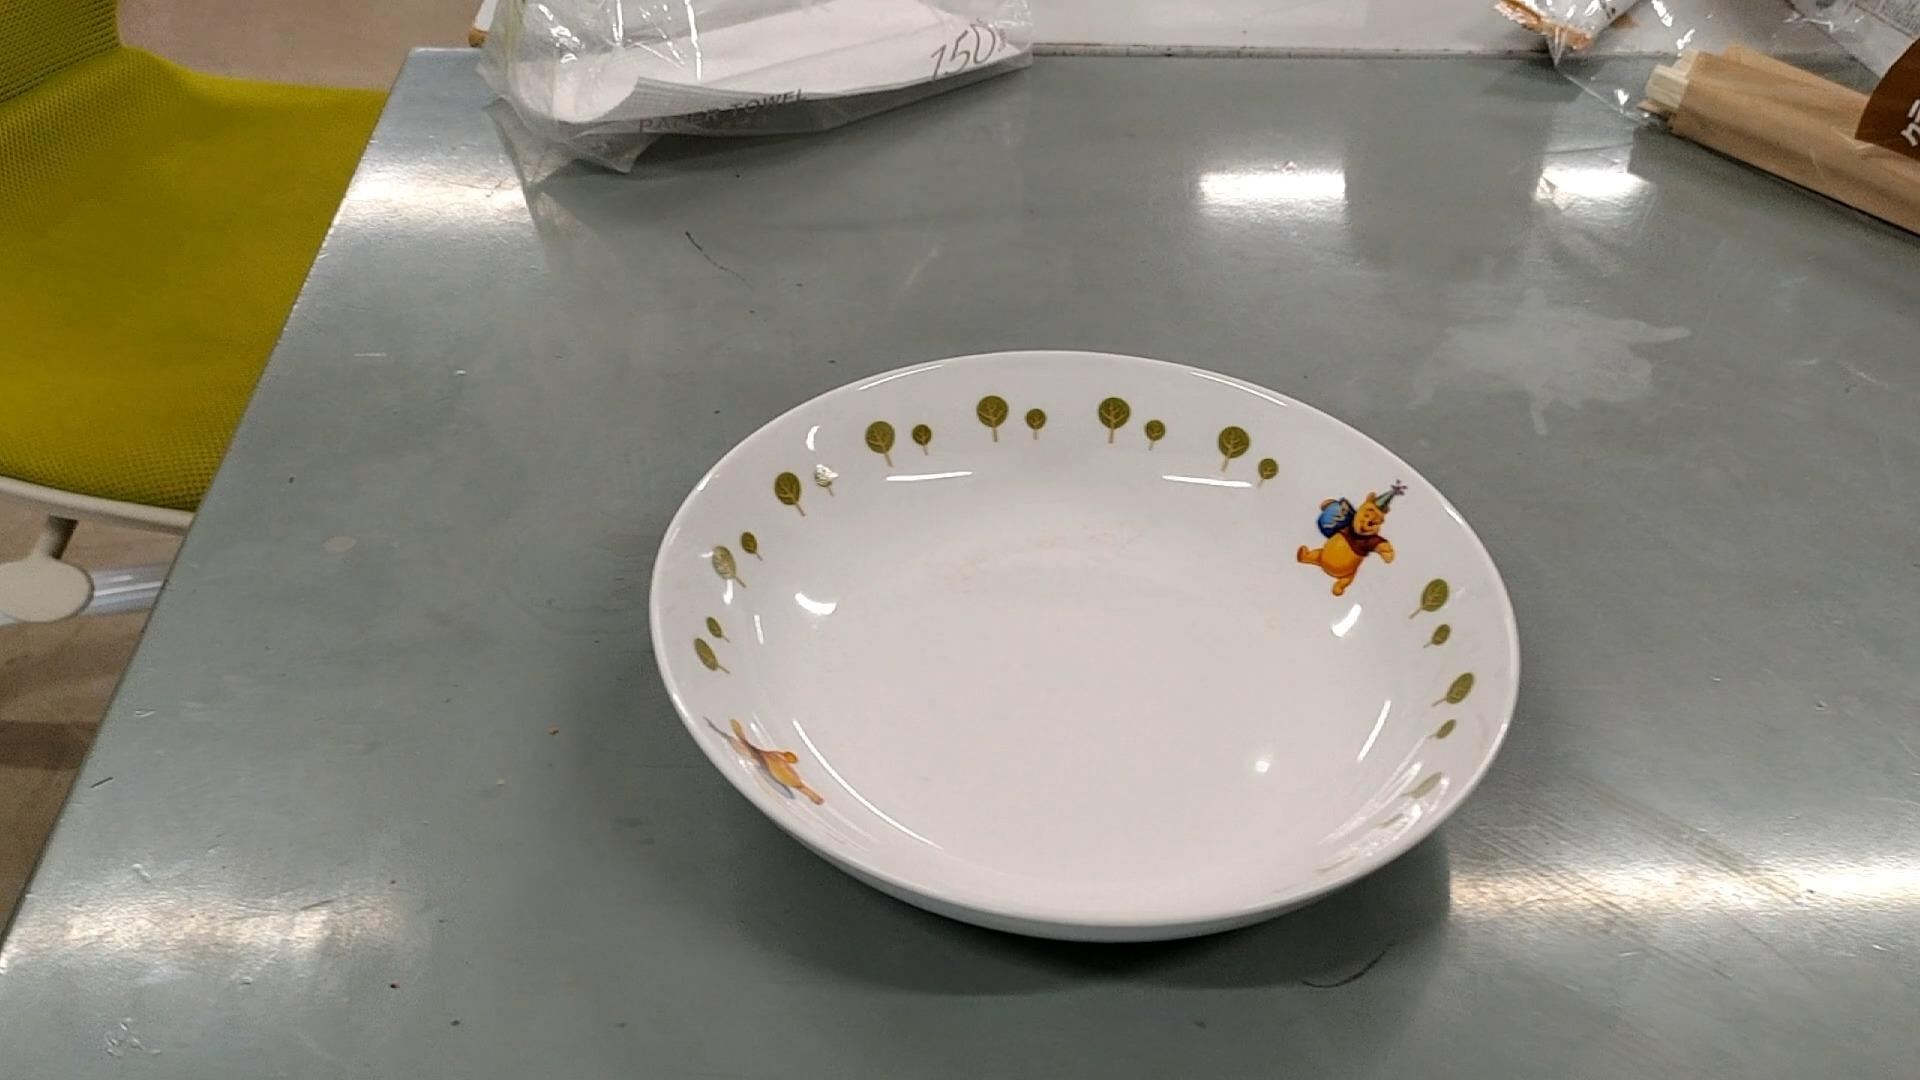plate: (647, 348, 1519, 938)
